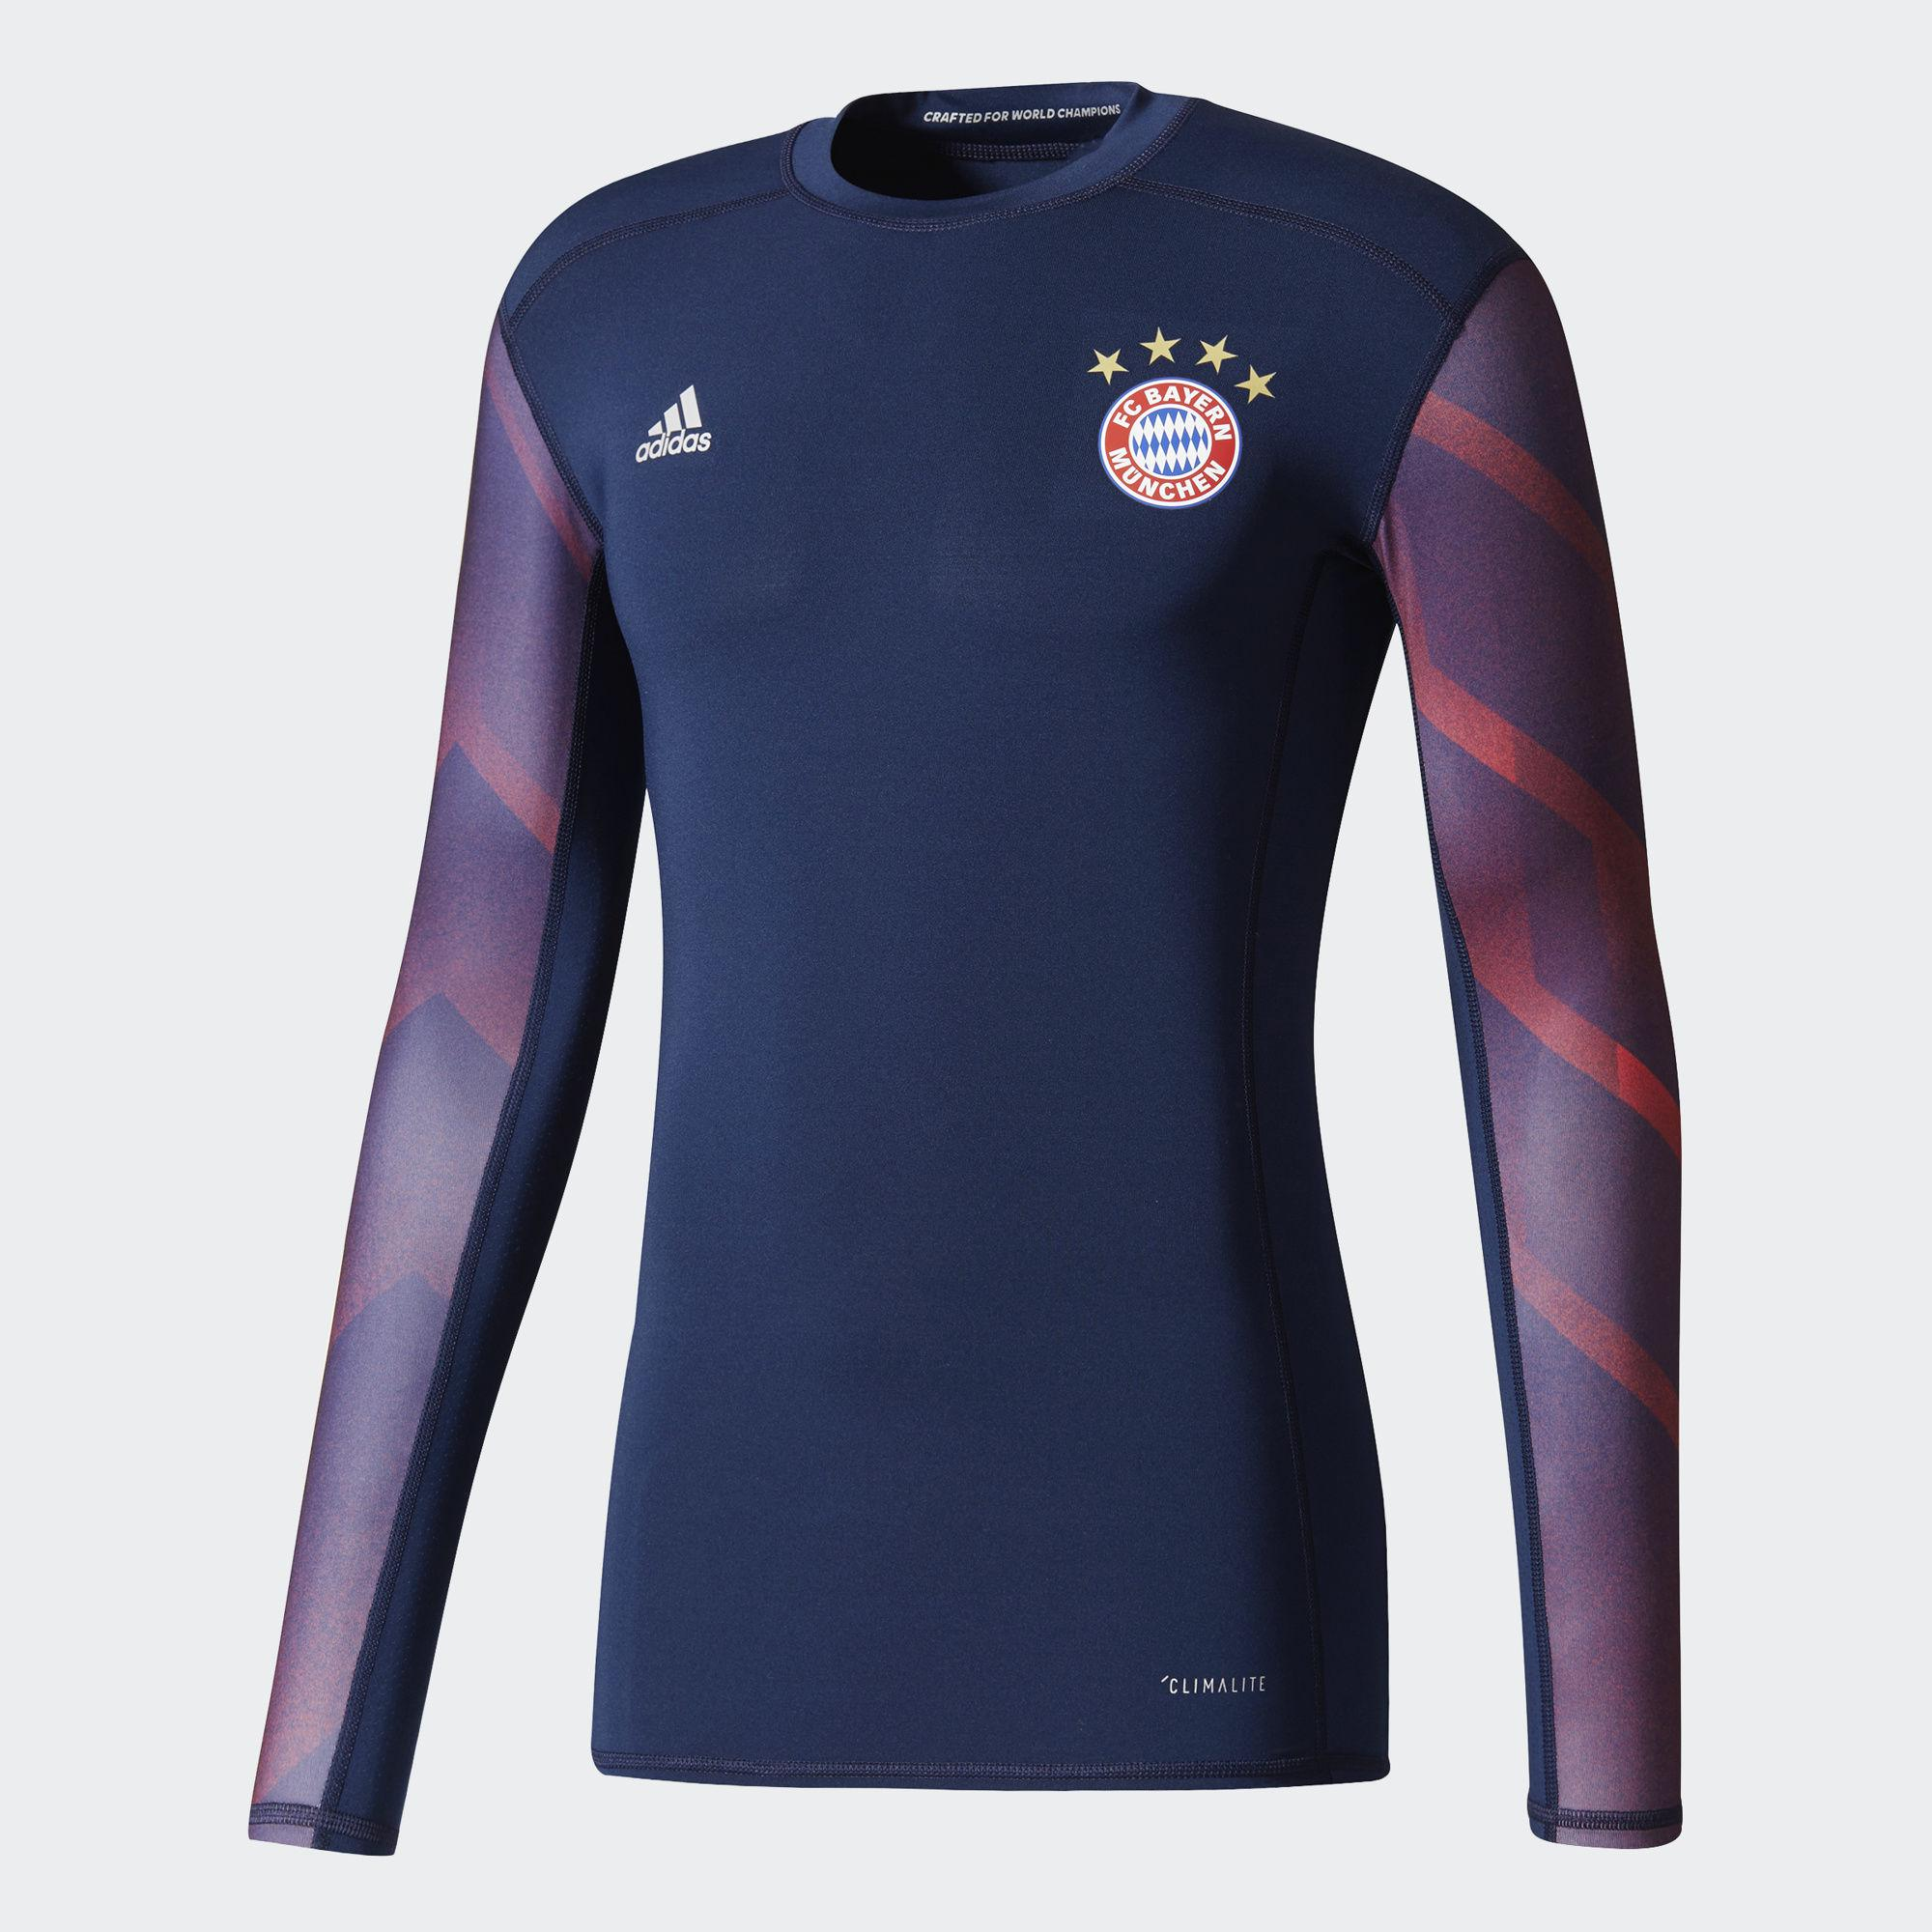teeshirt: (111, 96, 1739, 1925)
